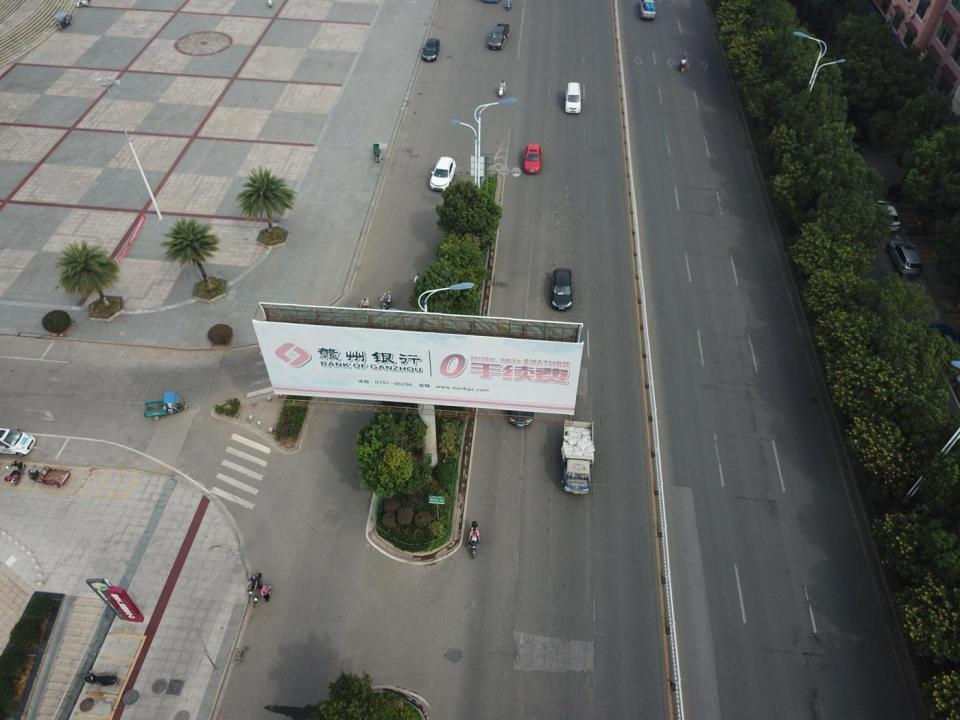car: (927, 325, 960, 371), (886, 240, 922, 276), (510, 375, 534, 426), (0, 426, 37, 456), (429, 156, 456, 191), (551, 268, 573, 310), (876, 200, 901, 232), (565, 82, 582, 115), (524, 143, 542, 174), (422, 38, 440, 62)
truck: (561, 419, 594, 496), (488, 23, 510, 50), (638, 0, 657, 19)
